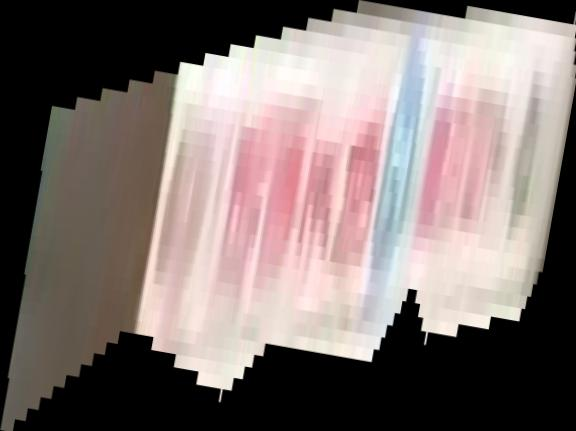flat: (1, 1, 576, 431)
